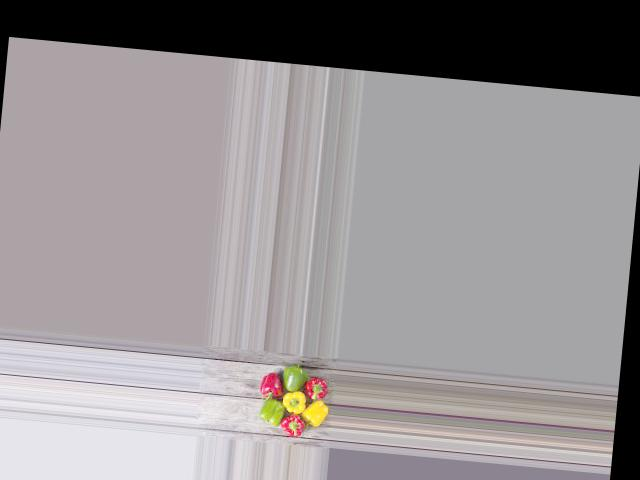bell_pepper: (303, 376, 334, 406)
